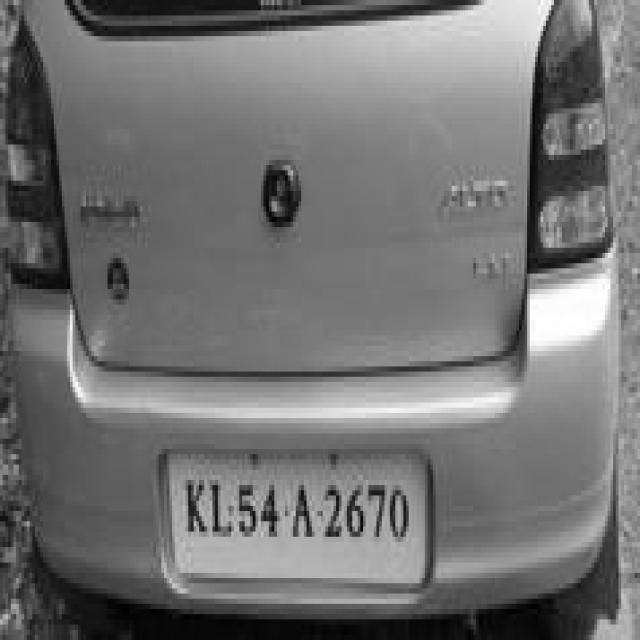license-plate: (164, 449, 430, 599)
